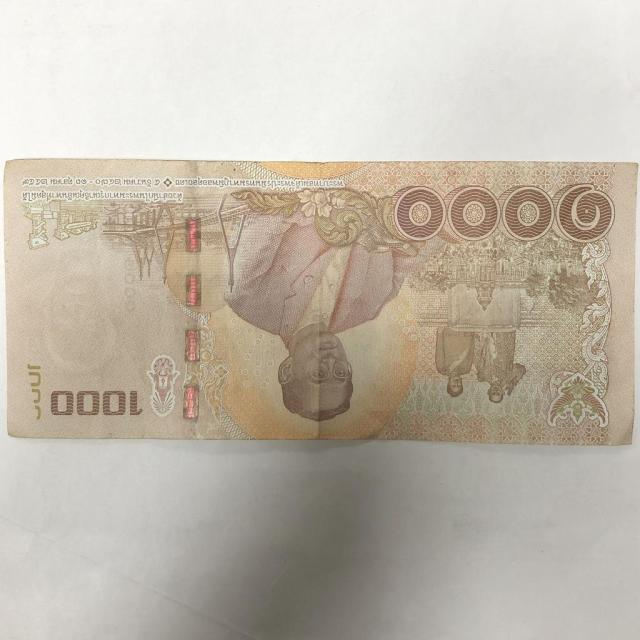THAI1000: (2, 158, 639, 448)
